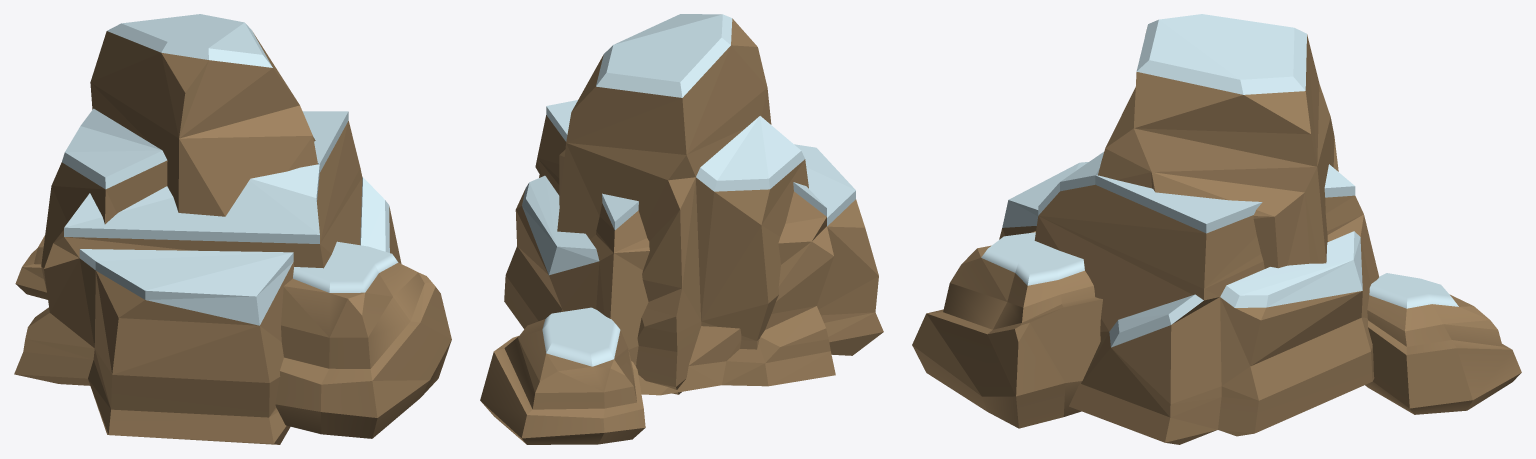
File: SM_Env_RockPile_02_Snow.gltf
The picture shows the model from 3 angles, left to right: view 1: azimuth 30°, elevation 25°; view 2: azimuth 150°, elevation 25°; view 3: azimuth 270°, elevation 25°; orthographic projection. The views are drawn at different scales.
Parts seen in each view (by area): view 1: SM_Env_RockPile_02_Snow; view 2: SM_Env_RockPile_02_Snow; view 3: SM_Env_RockPile_02_Snow.
Boxes of the visible parts, <box> form: SM_Env_RockPile_02_Snow: <box>14,14,451,444</box>; SM_Env_RockPile_02_Snow: <box>480,14,883,444</box>; SM_Env_RockPile_02_Snow: <box>912,14,1521,444</box>.
Bounding box in the file's own units: 6.32 × 5.71 × 8.94.
1 material, 1 textured.
